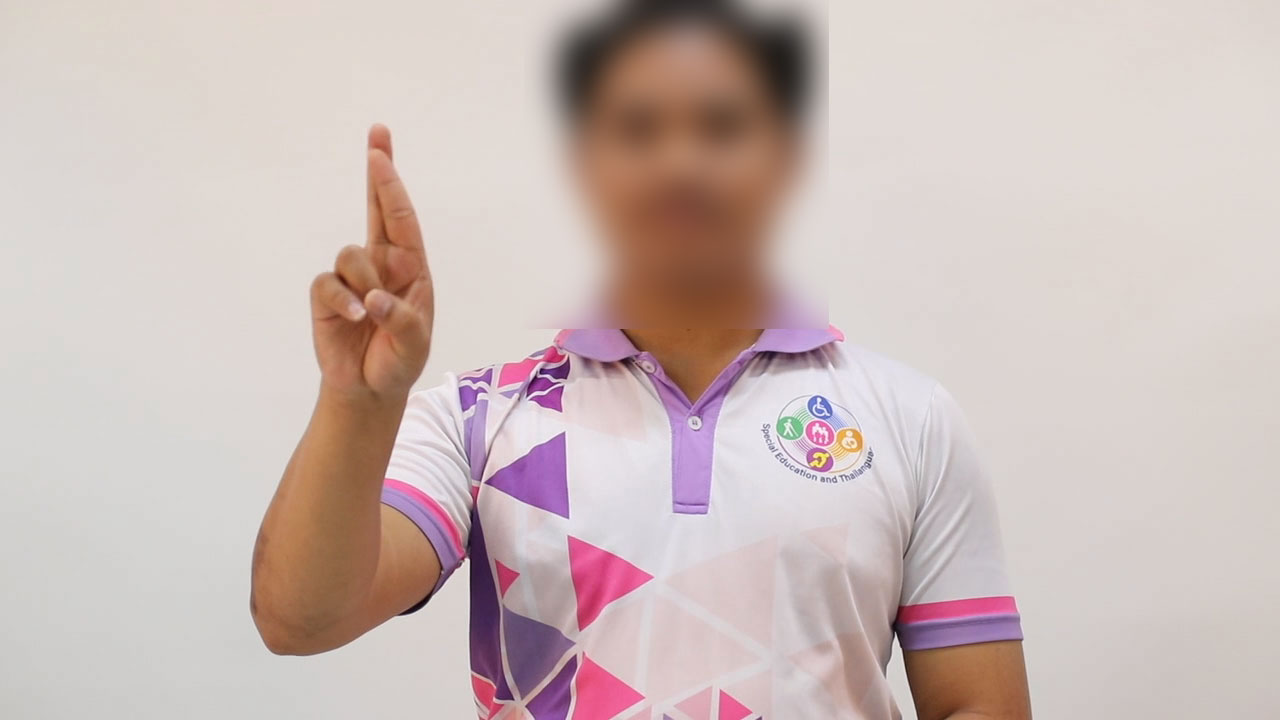rao: (278, 119, 442, 396)
